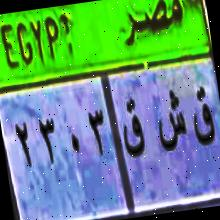0: (64, 124, 84, 166)
2: (10, 112, 38, 176)
3: (84, 96, 112, 169), (34, 113, 64, 179)
qaaf: (115, 94, 150, 168), (188, 86, 219, 158)
sheen: (150, 82, 192, 164)
